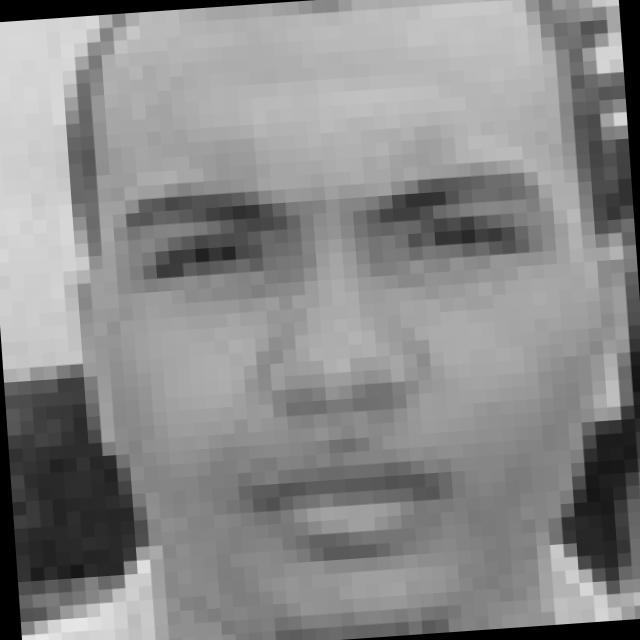neutral: (113, 150, 573, 580)
